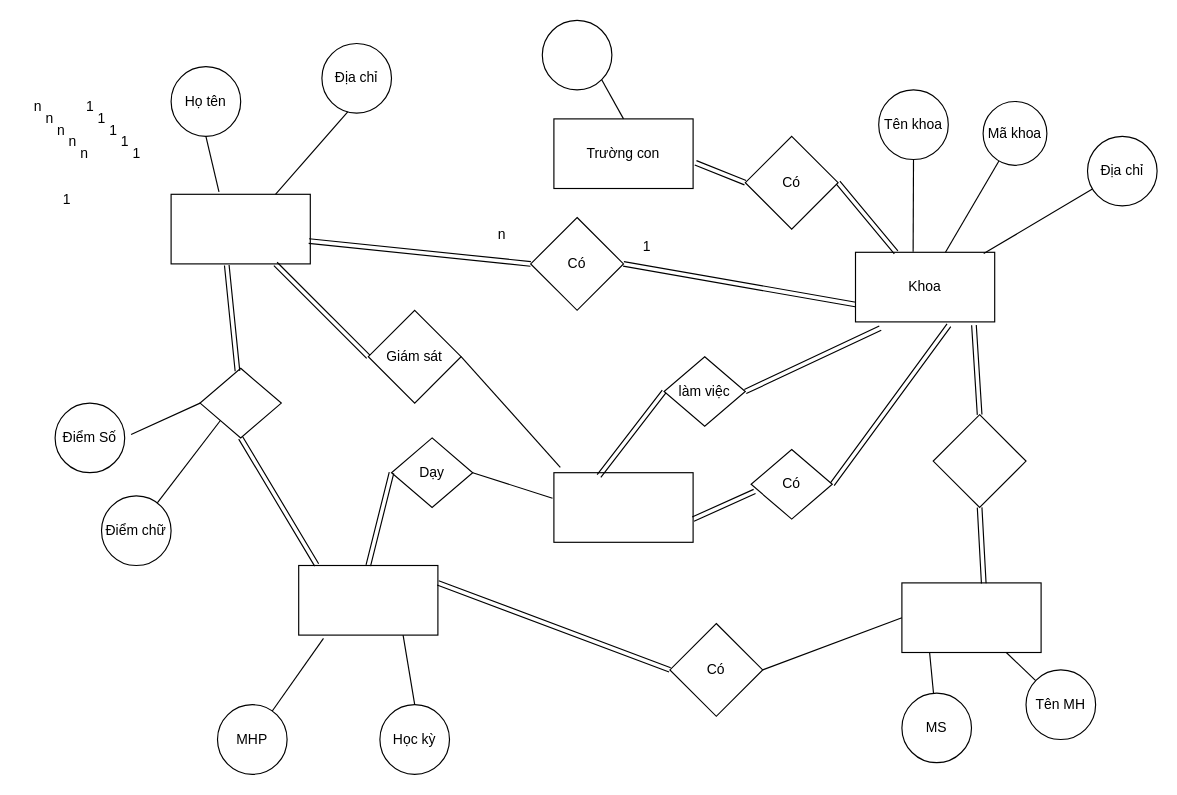
Image size: 1177x795. Some labels were removed from this diagram. Here are the shapes that lost their labels. From the top down, the centre of each, then its label:
the point at 576,54: Hiệu trưởng
the point at 240,228: Sinh viên
the point at 240,402: Học
the point at 979,460: Cung cấp
the point at 623,507: Giáo viên
the point at 368,599: Hoc phần
the point at 971,617: Môn học
